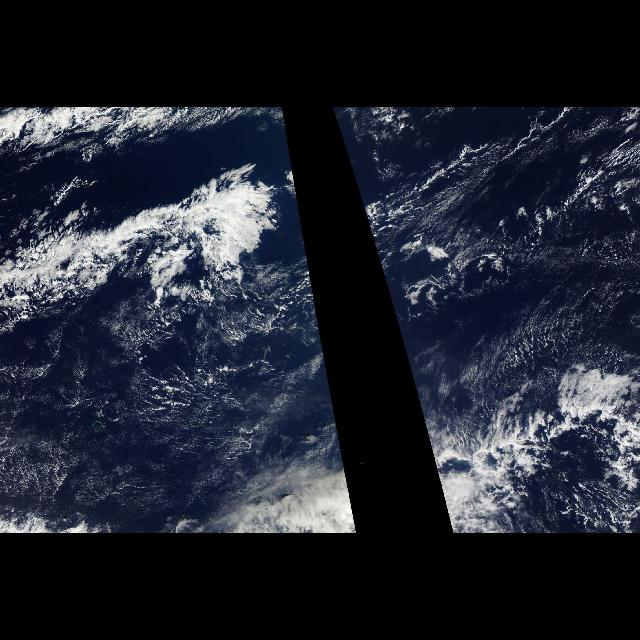Sugar: (472, 132, 640, 392), (34, 369, 302, 513)
